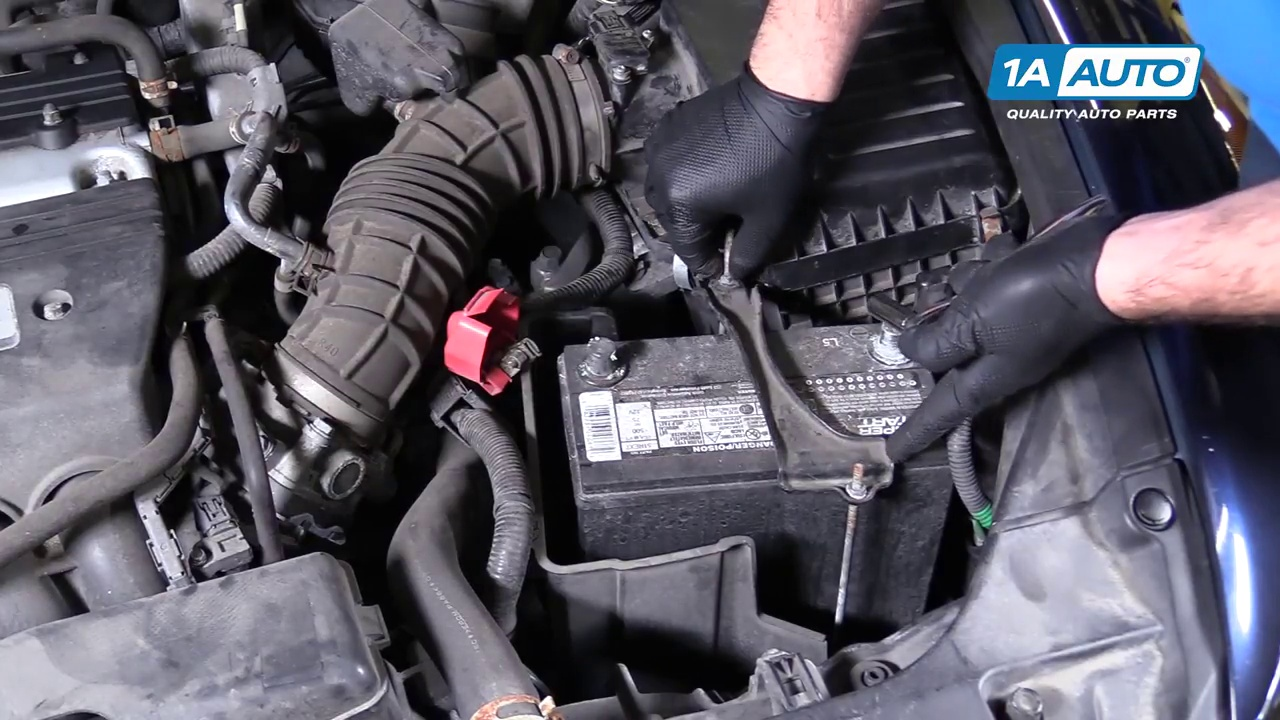battery: (561, 304, 939, 511)
neg_touched: (824, 283, 963, 383)
pos_disconnected: (429, 285, 646, 403)
